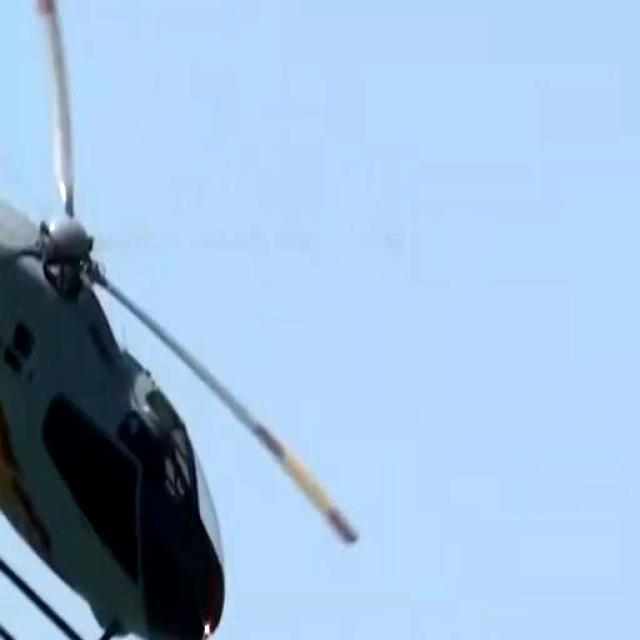drone: (0, 0, 356, 640)
